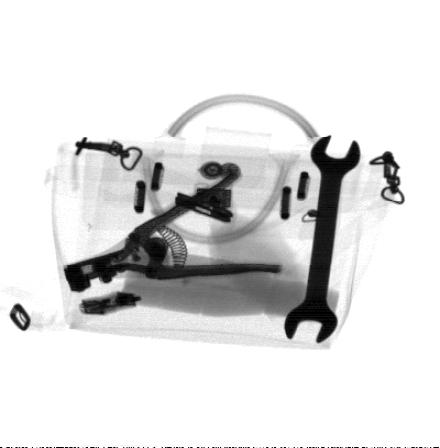Pliers: (64, 168, 280, 294)
Wrench: (283, 134, 361, 344)
